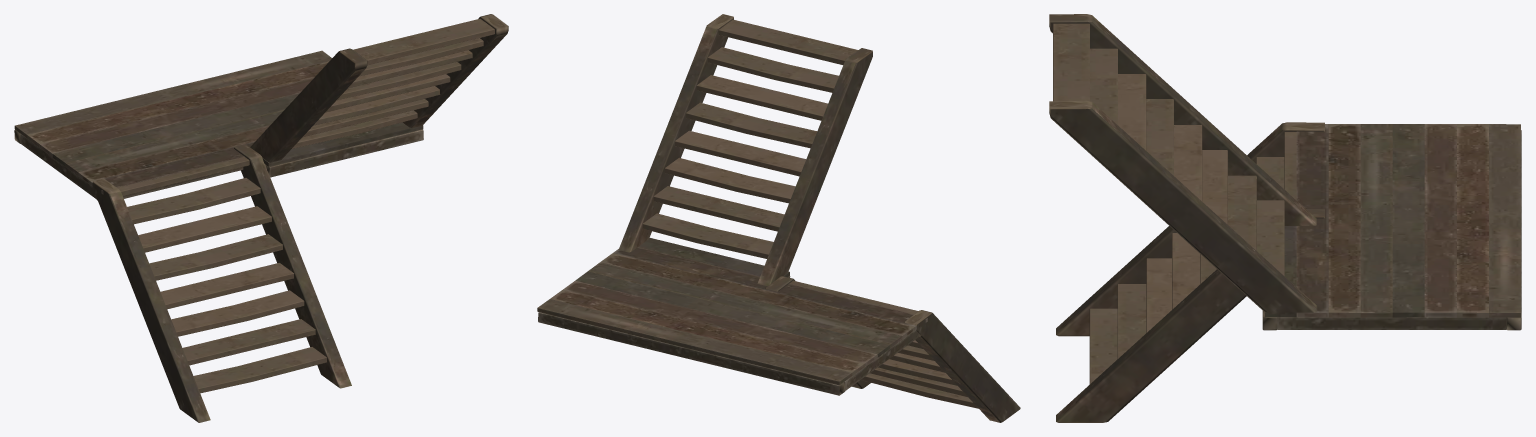
The model's file is block.stair.ushape.frontier.glb.
3 renders of one model, left to right at view 1: azimuth 30°, elevation 25°; view 2: azimuth 150°, elevation 25°; view 3: azimuth 270°, elevation 25°, orthographic. The views are drawn at different scales.
Parts seen in each view (by area): view 1: block.stair.simple (×2), block.stair.landing.150x300_LOD0; view 2: block.stair.simple (×2), block.stair.landing.150x300_LOD0; view 3: block.stair.simple (×2), block.stair.landing.150x300_LOD0.
Boxes of the visible parts, x1=… form: block.stair.simple (×2): x1=92, y1=14, x2=508, y2=422; block.stair.landing.150x300_LOD0: x1=14, y1=50, x2=423, y2=200; block.stair.simple (×2): x1=618, y1=14, x2=1020, y2=422; block.stair.landing.150x300_LOD0: x1=537, y1=238, x2=927, y2=395; block.stair.simple (×2): x1=1049, y1=14, x2=1324, y2=422; block.stair.landing.150x300_LOD0: x1=1262, y1=124, x2=1521, y2=330.
Bounding box in the file's own units: 3.01 × 3.04 × 3.17.
Materials: 1 (1 with a texture image).
